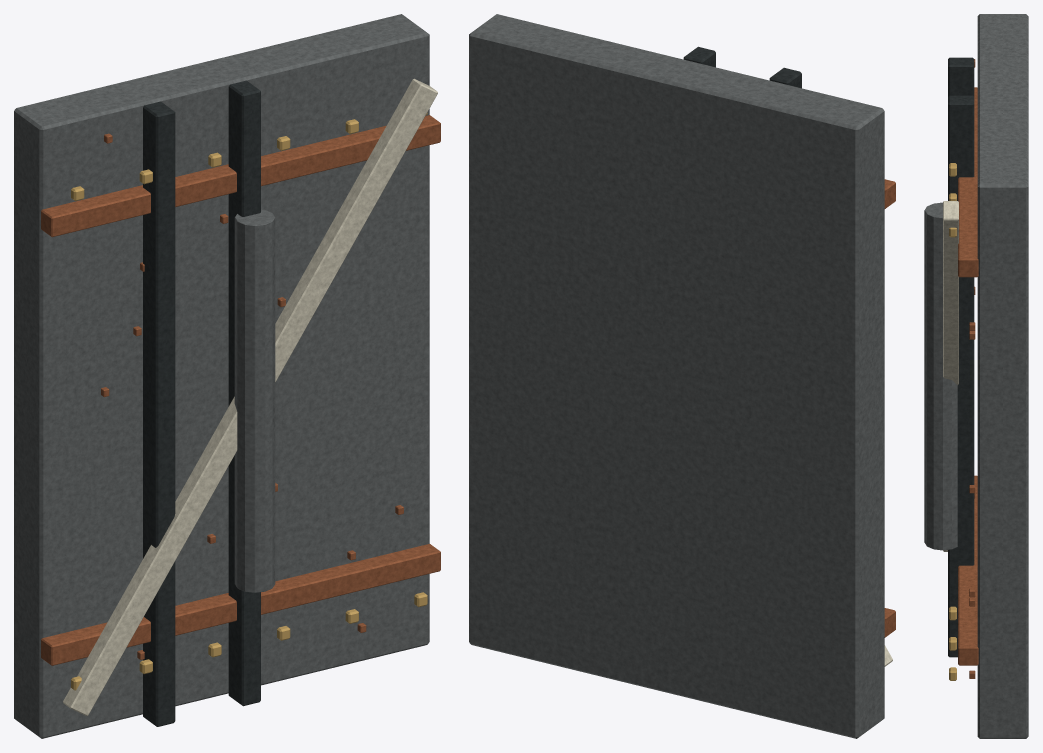
File: METL22CC_lod0.glb
3 renders of one model, left to right at view 1: azimuth 30°, elevation 25°; view 2: azimuth 150°, elevation 25°; view 3: azimuth 270°, elevation 25°, orthographic. The views are drawn at different scales.
Visible parts, largest first — view 1: METL22CC_LOD0; view 2: METL22CC_LOD0; view 3: METL22CC_LOD0.
Boxes of the visible parts, x1,y1,x2,y2 form: METL22CC_LOD0: (14, 14, 440, 738); METL22CC_LOD0: (469, 14, 895, 738); METL22CC_LOD0: (924, 14, 1028, 738).
Bounding box in the file's own units: 2 × 3 × 0.51.
Materials: 5 (4 with a texture image).
